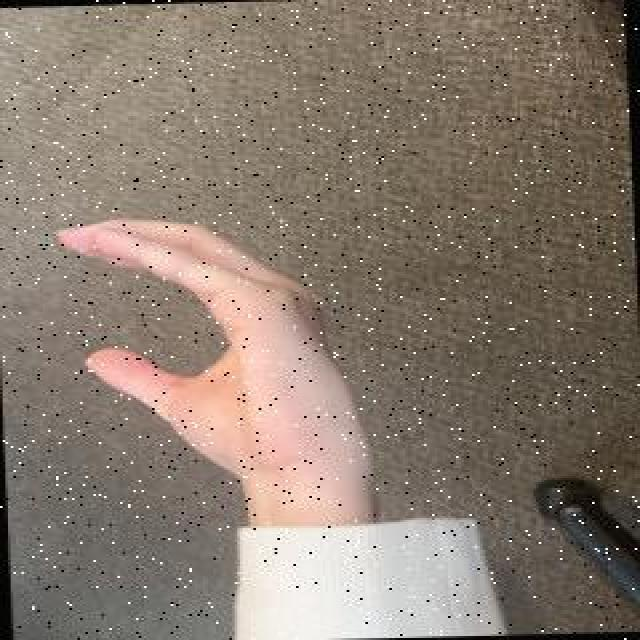C: (49, 209, 388, 493)
